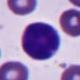L: (21, 21, 61, 61)
